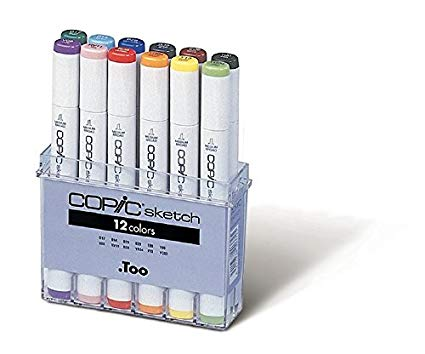Nonrec_Other: (23, 18, 284, 332)
